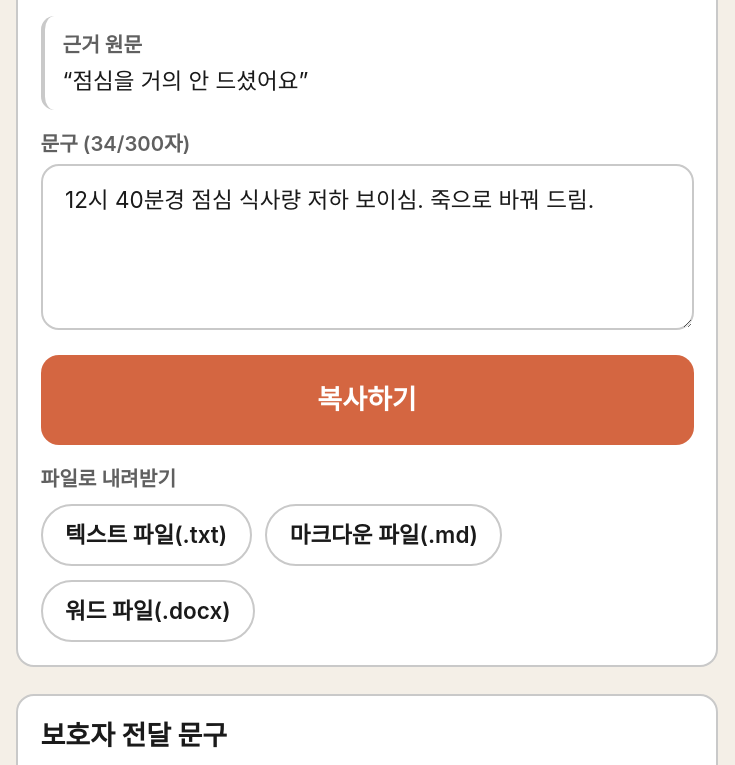
Scenario: 기록·보호자 전달 문구 화면 (n36~n40) › 클립보드에 쓰지 못하면 직접 복사하라고 안내하고 복사 기록을 남기지 않는다
The width and height of the screenshot is (735, 765).
(page scrolled)
Click the button "복사하기" at [367, 400], box [40, 355, 694, 445]
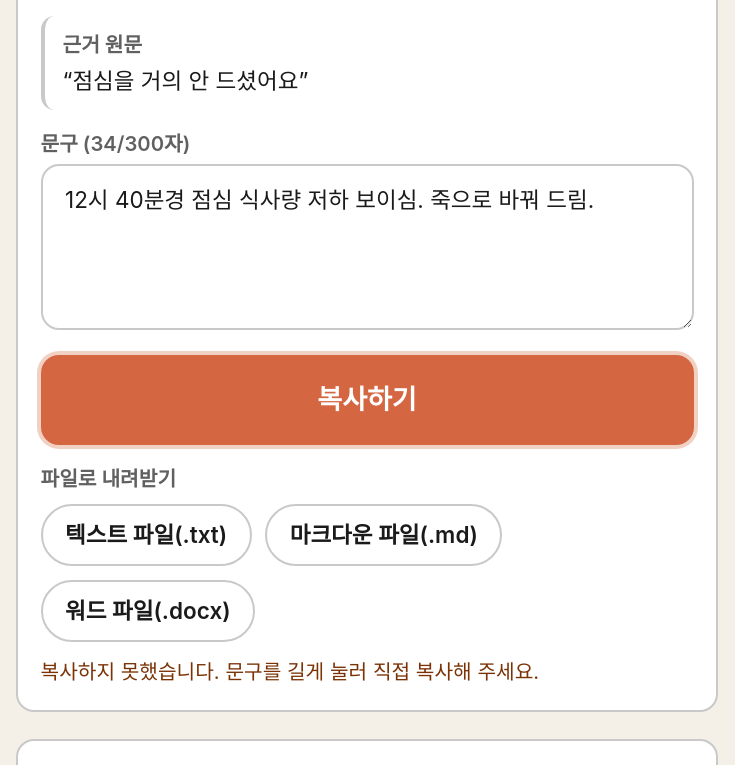
Result: the text "복사하지 못했습니다. 문구를 길게 눌러 직접 복사해 주세요." is shown at [40, 659, 539, 684]
